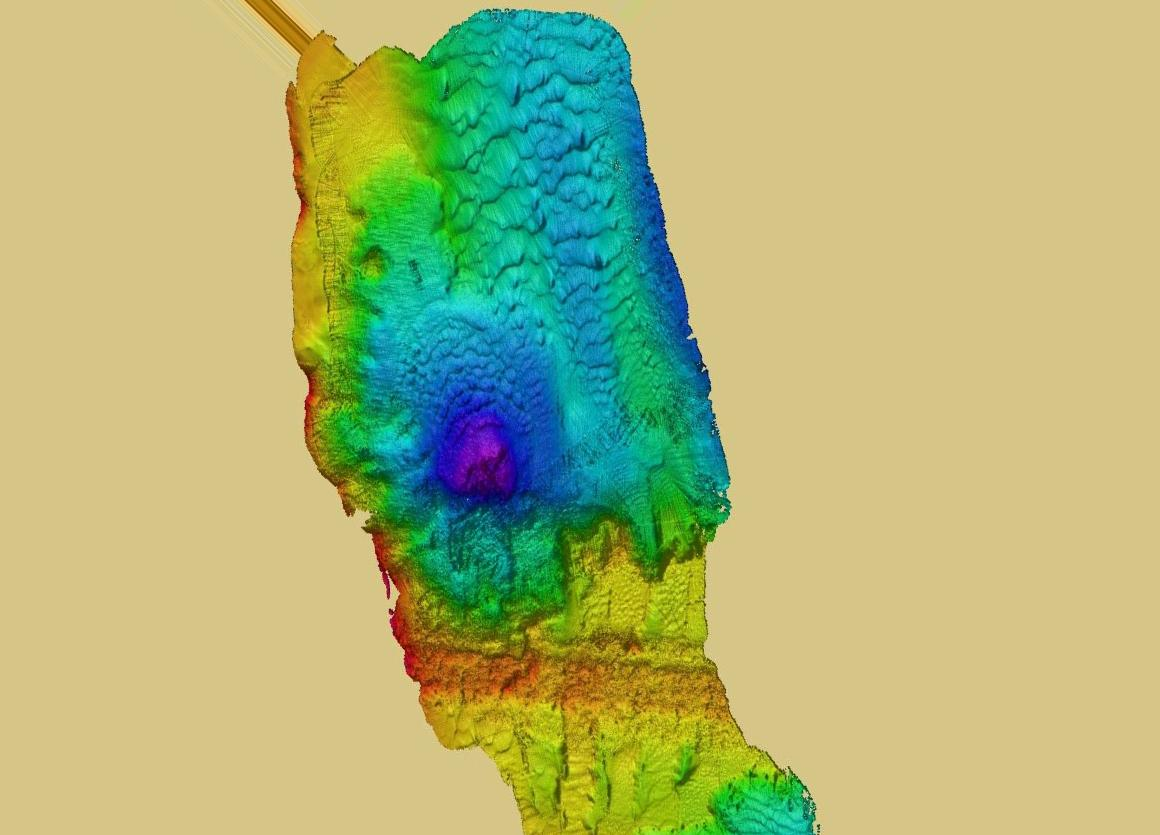Dune: (433, 6, 617, 337), (398, 322, 544, 420), (733, 789, 800, 829)
Scarp: (281, 308, 412, 658)
Scour pit: (433, 404, 543, 503)
Submerged dike: (360, 622, 817, 760)
